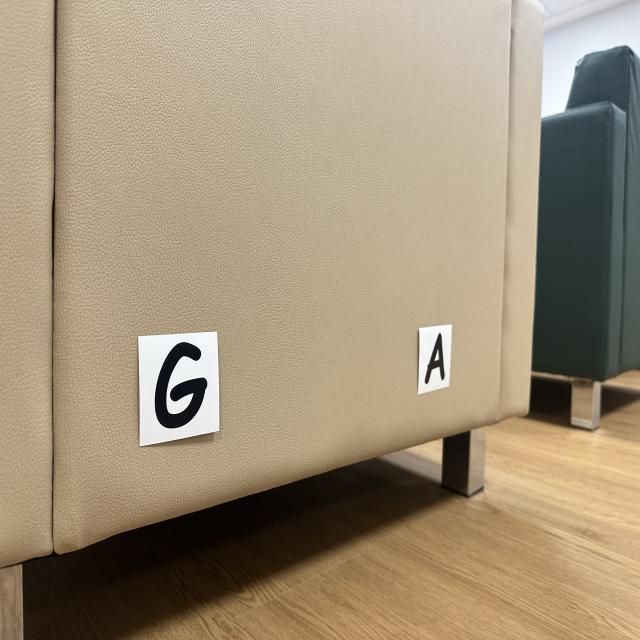A: (425, 333, 445, 383)
G: (155, 342, 208, 428)
